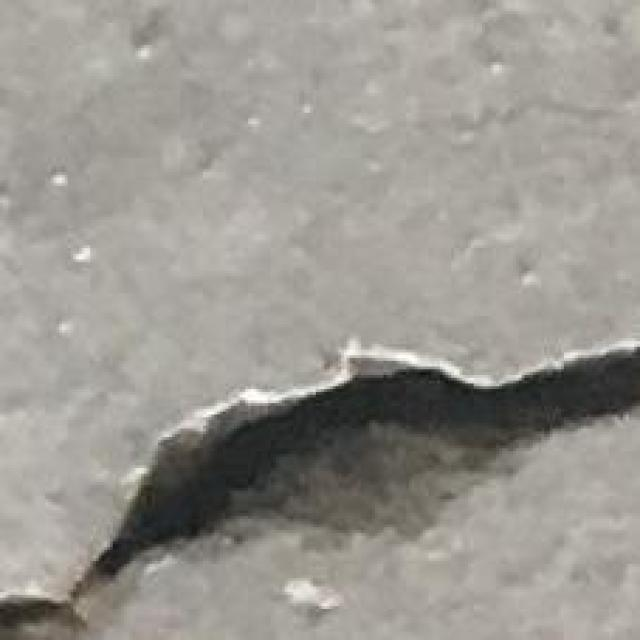diagonal crack: (0, 347, 639, 629)
